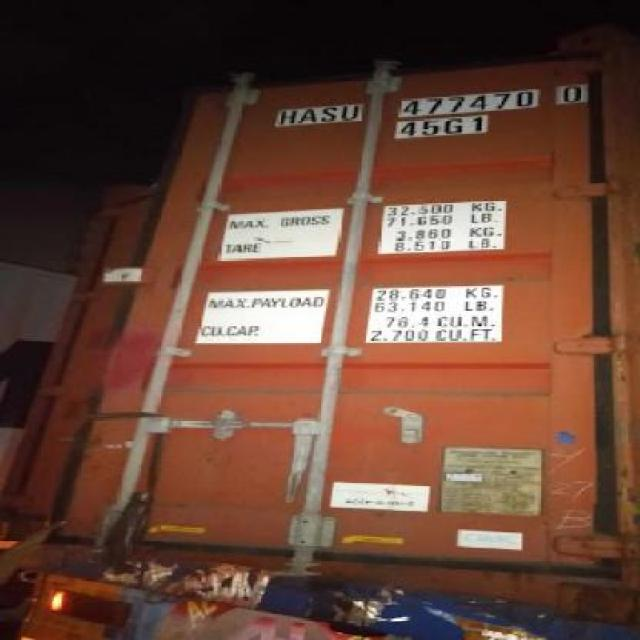ISO: (389, 114, 484, 140)
container_number: (270, 82, 579, 125)
